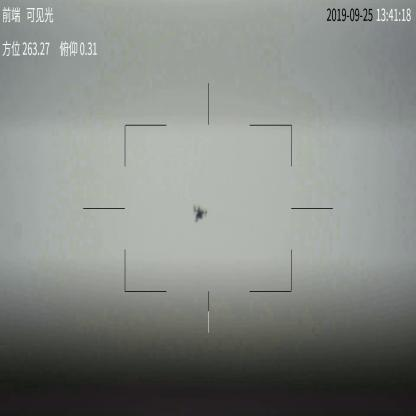uav: (192, 200, 209, 225)
